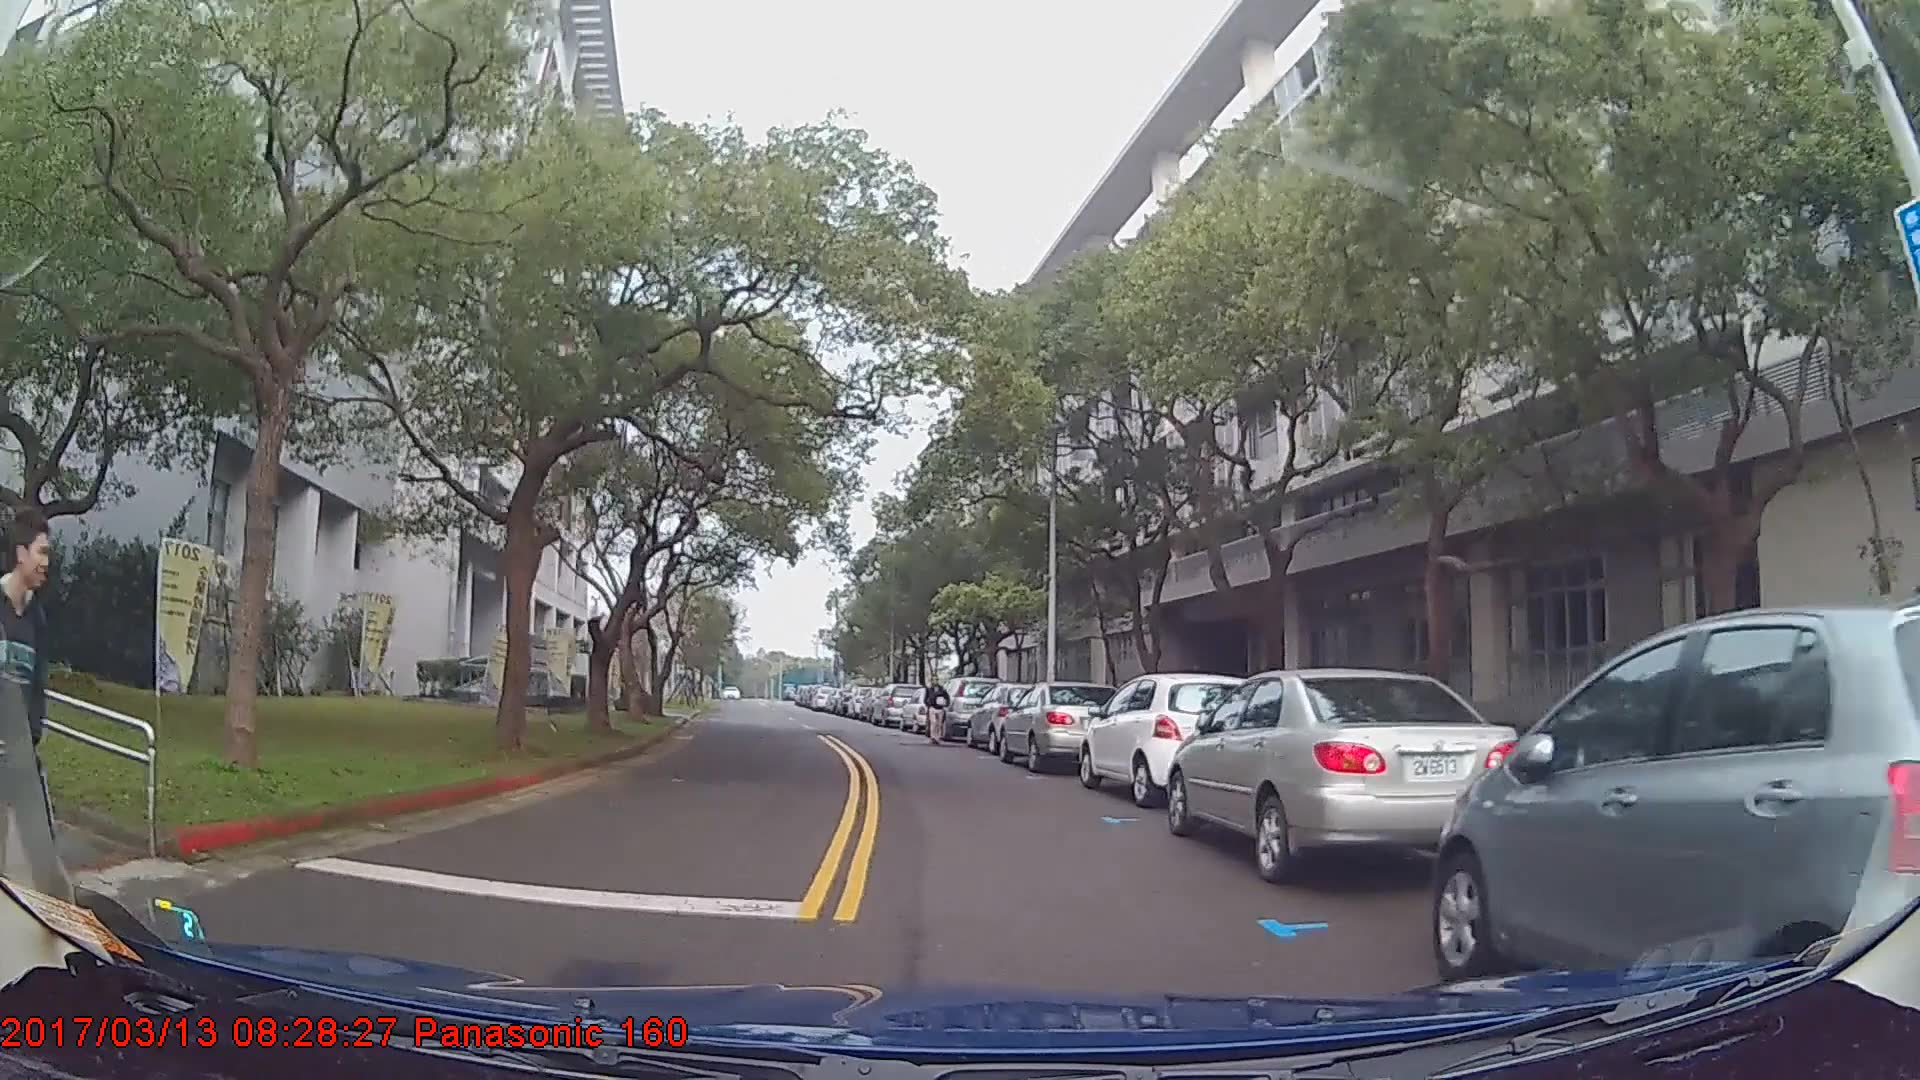pedestrian: (1, 522, 56, 988), (922, 675, 950, 748)
vehicle: (1430, 597, 1920, 1009), (1168, 665, 1528, 887), (1079, 671, 1260, 810), (998, 681, 1119, 774), (965, 679, 1062, 755), (933, 676, 1002, 742), (868, 680, 924, 726)
